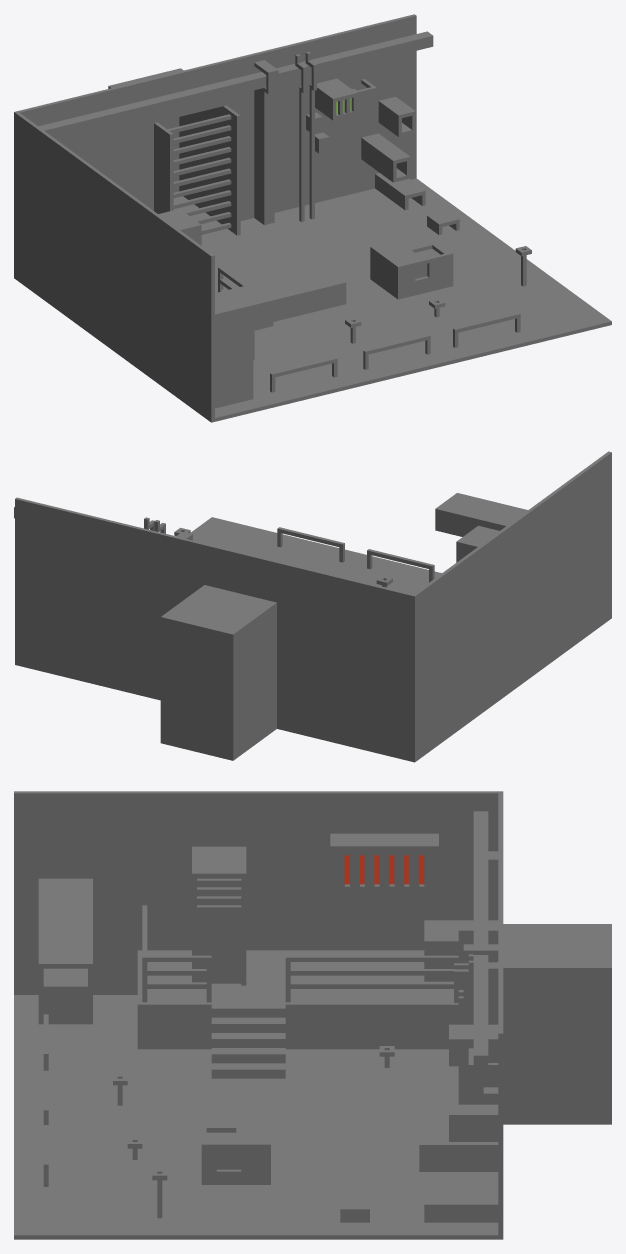
The model's file is Apollo-Model.gltf.
The picture shows the model from 3 angles, top to bottom: view 1: azimuth 30°, elevation 25°; view 2: azimuth 150°, elevation 25°; view 3: azimuth 270°, elevation 25°; orthographic projection. The views are drawn at different scales.
Parts seen in each view (by area): view 1: Node; view 2: Node; view 3: Node.
Part boxes in pixels (x1=…): Node: x1=14, y1=14, x2=611, y2=422; Node: x1=14, y1=451, x2=611, y2=762; Node: x1=14, y1=791, x2=611, y2=1239.
Size of the model in its own units: 11.8 by 4.6 by 12.1.
1 material, 1 textured.
